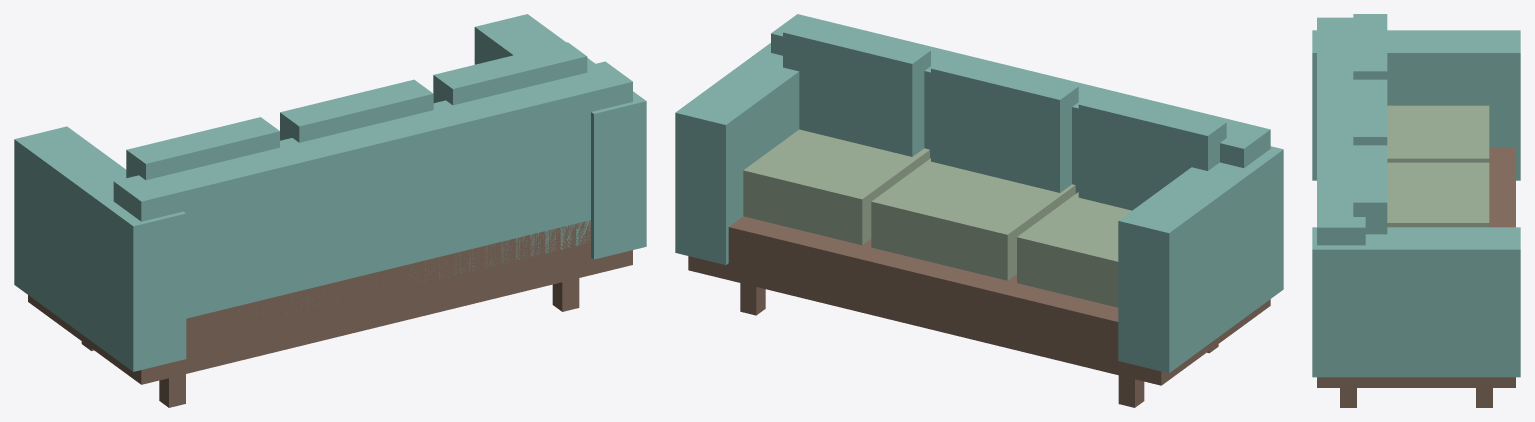
The model's file is sofa_contemporary.glb.
3 renders of one model, left to right at view 1: azimuth 30°, elevation 25°; view 2: azimuth 150°, elevation 25°; view 3: azimuth 270°, elevation 25°, orthographic. The views are drawn at different scales.
Parts seen in each view (by area): view 1: part_1, part_2, part_0, part_3, part_9, part_7, part_8, part_12, part_10; view 2: part_0, part_2, part_3, part_8, part_5, part_9, part_6, part_7, part_4, part_1, part_11, part_13; view 3: part_3, part_2, part_1, part_5, part_4, part_0, part_9, part_8, part_7, part_12, part_13.
Part boxes in pixels (left/top/right/bottom): part_1: left=113, top=61, right=632, bottom=324; part_2: left=14, top=126, right=186, bottom=371; part_0: left=28, top=220, right=632, bottom=384; part_3: left=474, top=14, right=646, bottom=259; part_9: left=433, top=42, right=587, bottom=105; part_7: left=126, top=117, right=279, bottom=179; part_8: left=280, top=79, right=433, bottom=142; part_12: left=552, top=278, right=579, bottom=311; part_10: left=159, top=374, right=185, bottom=407; part_0: left=688, top=216, right=1270, bottom=385; part_2: left=1118, top=146, right=1283, bottom=373; part_3: left=675, top=43, right=799, bottom=264; part_8: left=931, top=55, right=1078, bottom=192; part_5: left=871, top=158, right=1075, bottom=280; part_9: left=783, top=19, right=930, bottom=156; part_6: left=743, top=129, right=929, bottom=244; part_7: left=1078, top=91, right=1226, bottom=210; part_4: left=1017, top=192, right=1131, bottom=307; part_1: left=771, top=14, right=1270, bottom=193; part_11: left=1118, top=375, right=1144, bottom=407; part_13: left=740, top=283, right=765, bottom=315; part_3: left=1312, top=227, right=1520, bottom=377; part_2: left=1312, top=30, right=1520, bottom=180; part_1: left=1317, top=17, right=1365, bottom=245; part_5: left=1387, top=162, right=1489, bottom=227; part_4: left=1387, top=105, right=1489, bottom=162; part_0: left=1317, top=147, right=1515, bottom=387; part_9: left=1353, top=145, right=1387, bottom=234; part_8: left=1353, top=79, right=1387, bottom=145; part_7: left=1353, top=14, right=1387, bottom=79; part_12: left=1340, top=388, right=1356, bottom=407; part_13: left=1476, top=388, right=1492, bottom=407.
Bounding box in the file's own units: 2.14 × 0.965 × 0.86.
